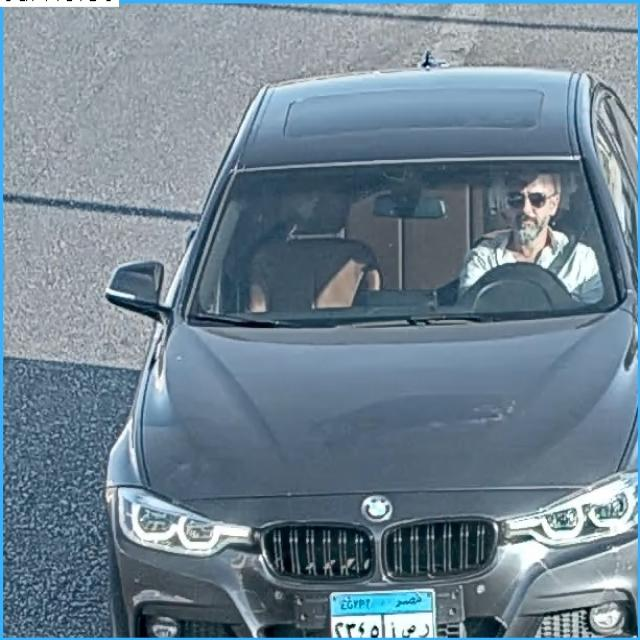windshield: (187, 159, 617, 330)
